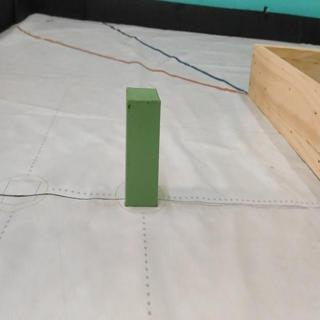greenbox: (124, 86, 164, 209)
